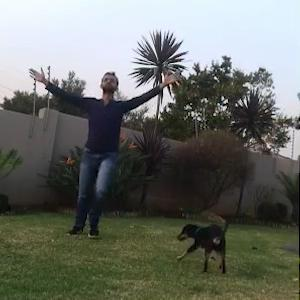takeoff: (33, 79, 168, 219)
